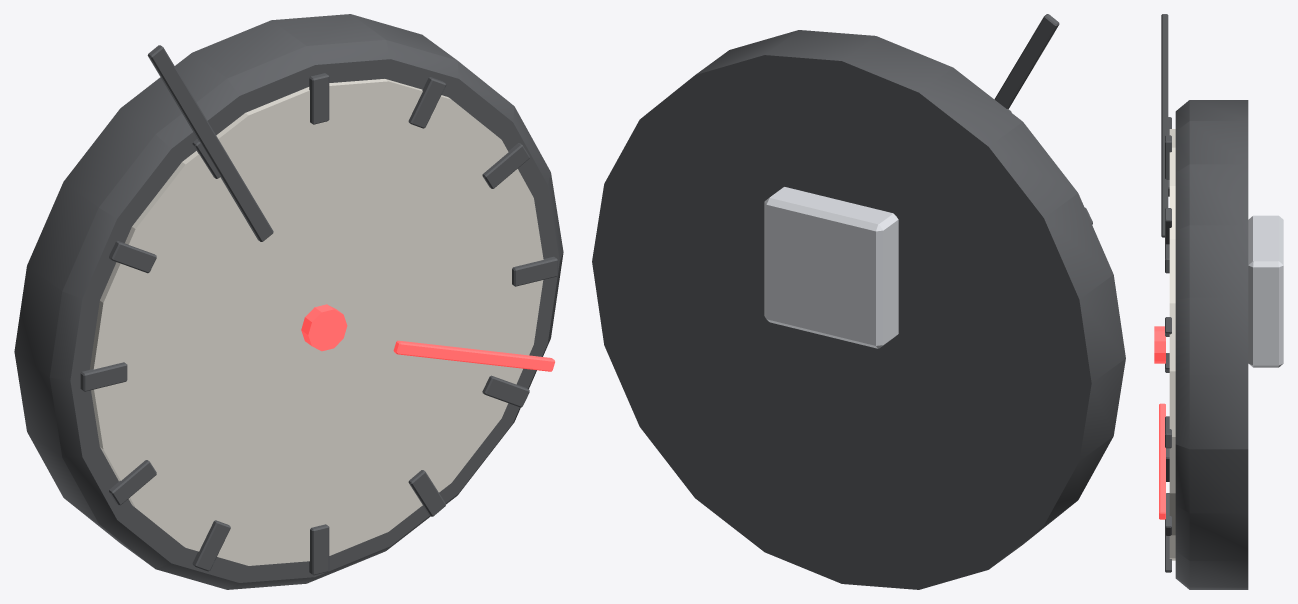
File: 35506_Studio_Clock__TV_Studio_and_Broadcast_Gallery_.glb
3 renders of one model, left to right at view 1: azimuth 30°, elevation 25°; view 2: azimuth 150°, elevation 25°; view 3: azimuth 270°, elevation 25°, orthographic. The views are drawn at different scales.
Parts seen in each view (by area): view 1: studio-clock; view 2: studio-clock; view 3: studio-clock.
Boxes of the visible parts, x1,y1,x2,y2 form: studio-clock: (14, 14, 563, 589); studio-clock: (592, 14, 1125, 589); studio-clock: (1154, 14, 1283, 589).
Size of the model in its own units: 0.42 by 0.4591 by 0.11.
